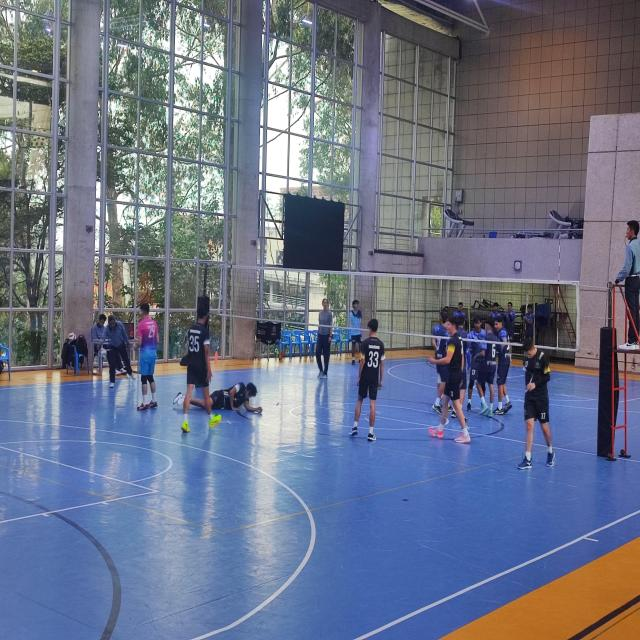volleyball: (98, 348, 107, 360), (68, 332, 76, 343)
